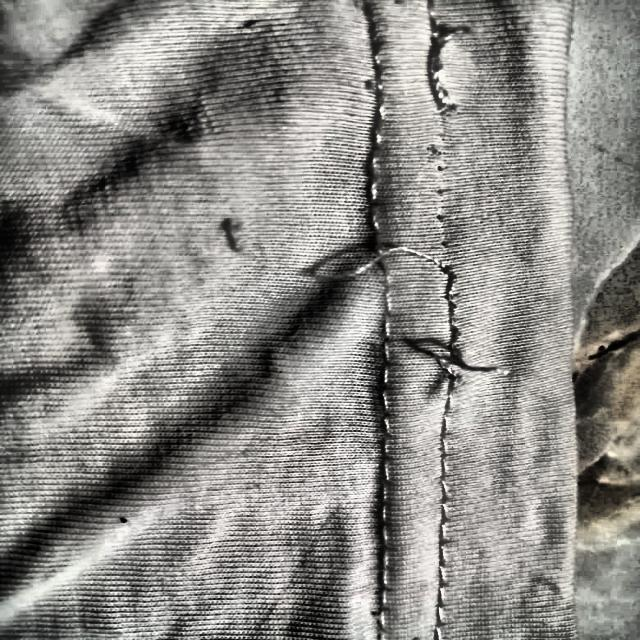gray stitch: (311, 243, 452, 285), (409, 332, 493, 378), (431, 25, 464, 115)
